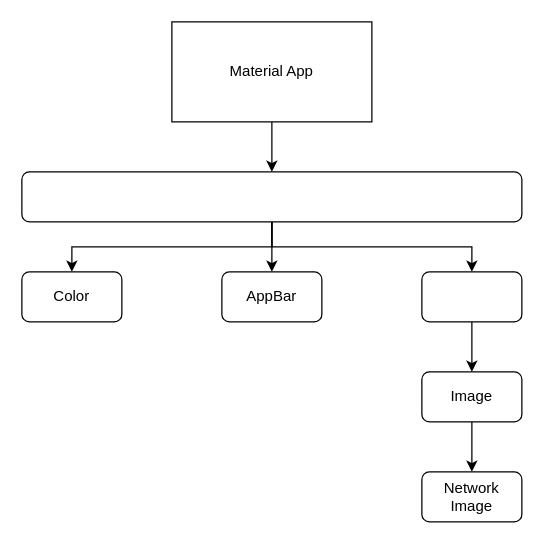
Some shapes in this 544 by 544 pixel diagram are drawn without their labels. The shapes that lost their labels are listed below. From the top down, each one's box as (x1, y1, x2, y2) in pixels, then its label:
(21, 171, 522, 222): Scaffold
(421, 271, 522, 322): Center
